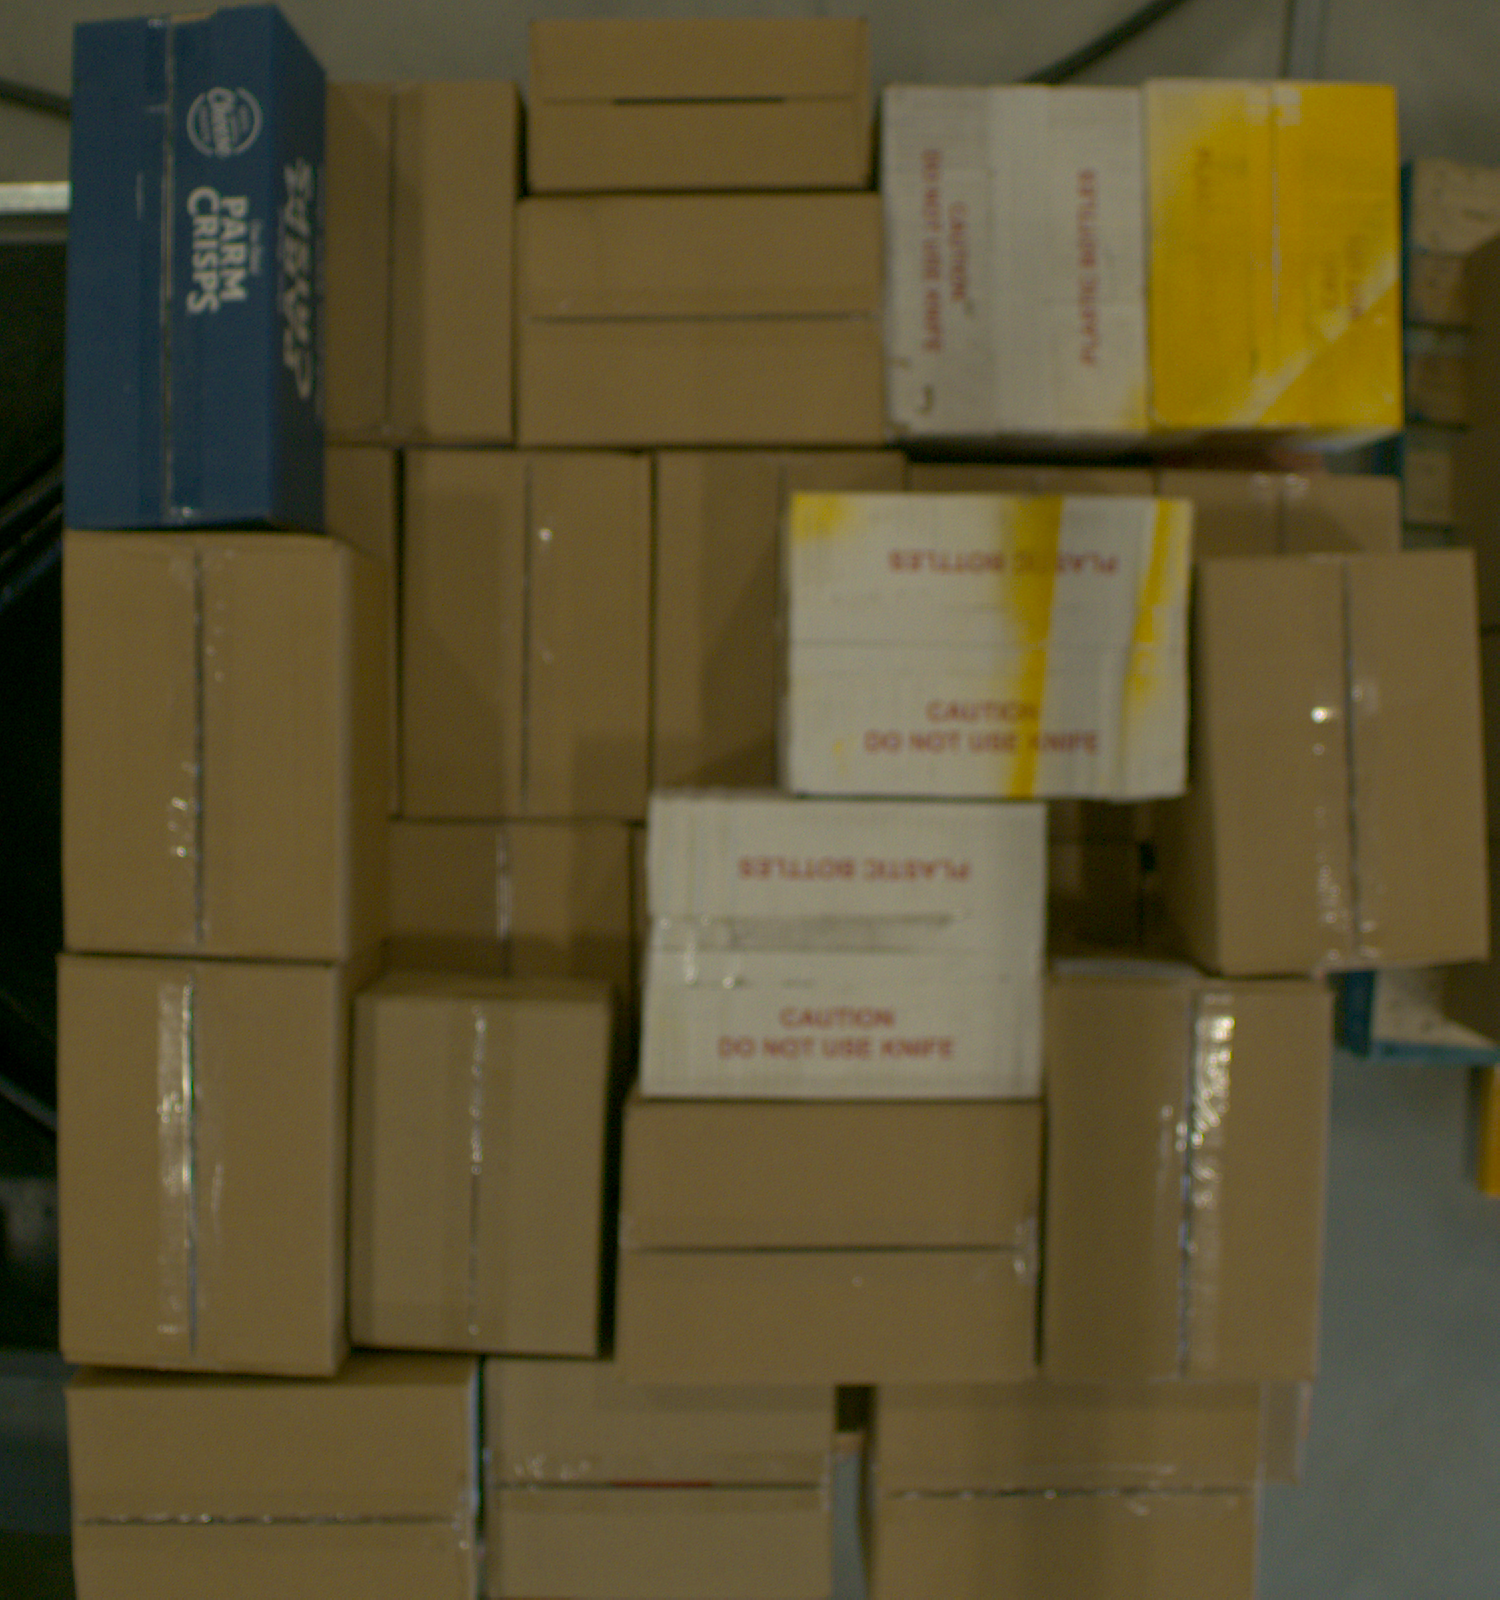box top: (58, 533, 348, 957), (1203, 548, 1489, 974), (617, 1102, 1040, 1389), (791, 496, 1191, 798), (646, 802, 1045, 1098), (61, 959, 334, 1377), (68, 6, 275, 531), (1050, 987, 1324, 1384), (881, 85, 1149, 437), (345, 999, 610, 1355), (520, 197, 883, 445), (406, 455, 648, 819), (1150, 80, 1401, 427), (66, 1391, 471, 1600), (875, 1384, 1260, 1597), (486, 1367, 830, 1600), (328, 80, 512, 443), (531, 18, 870, 190), (386, 825, 629, 980)
